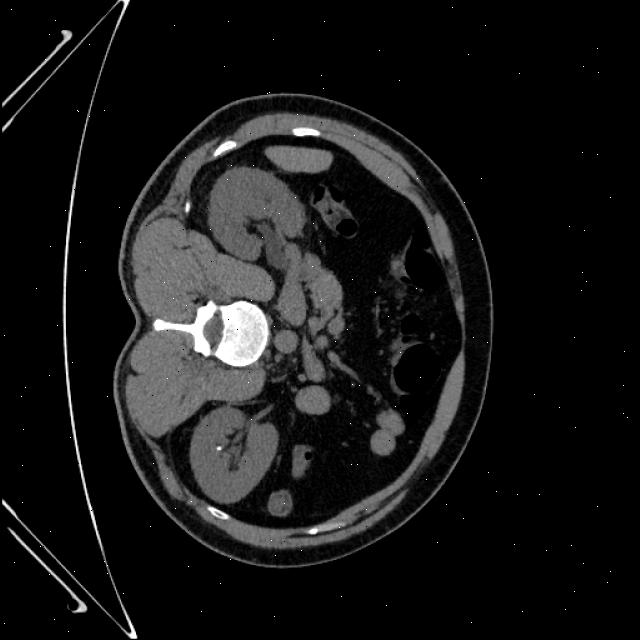kidneystone: (216, 445, 224, 451)
